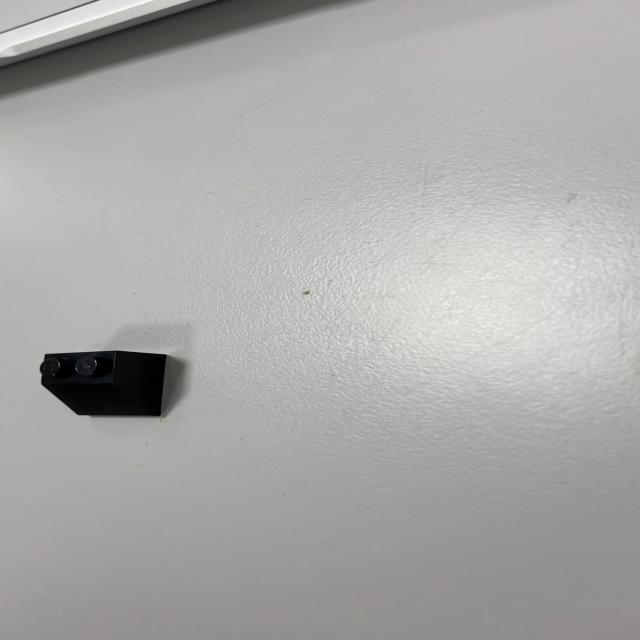P2x2x1: (38, 349, 168, 417)
